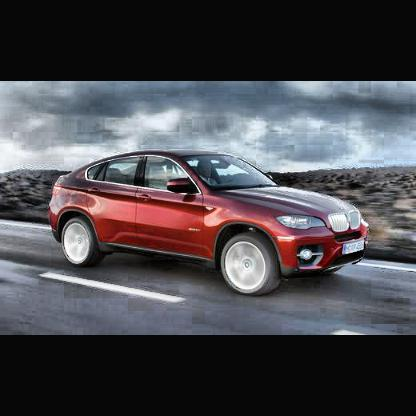BMW X6 SUV 2012: (49, 152, 371, 298)
